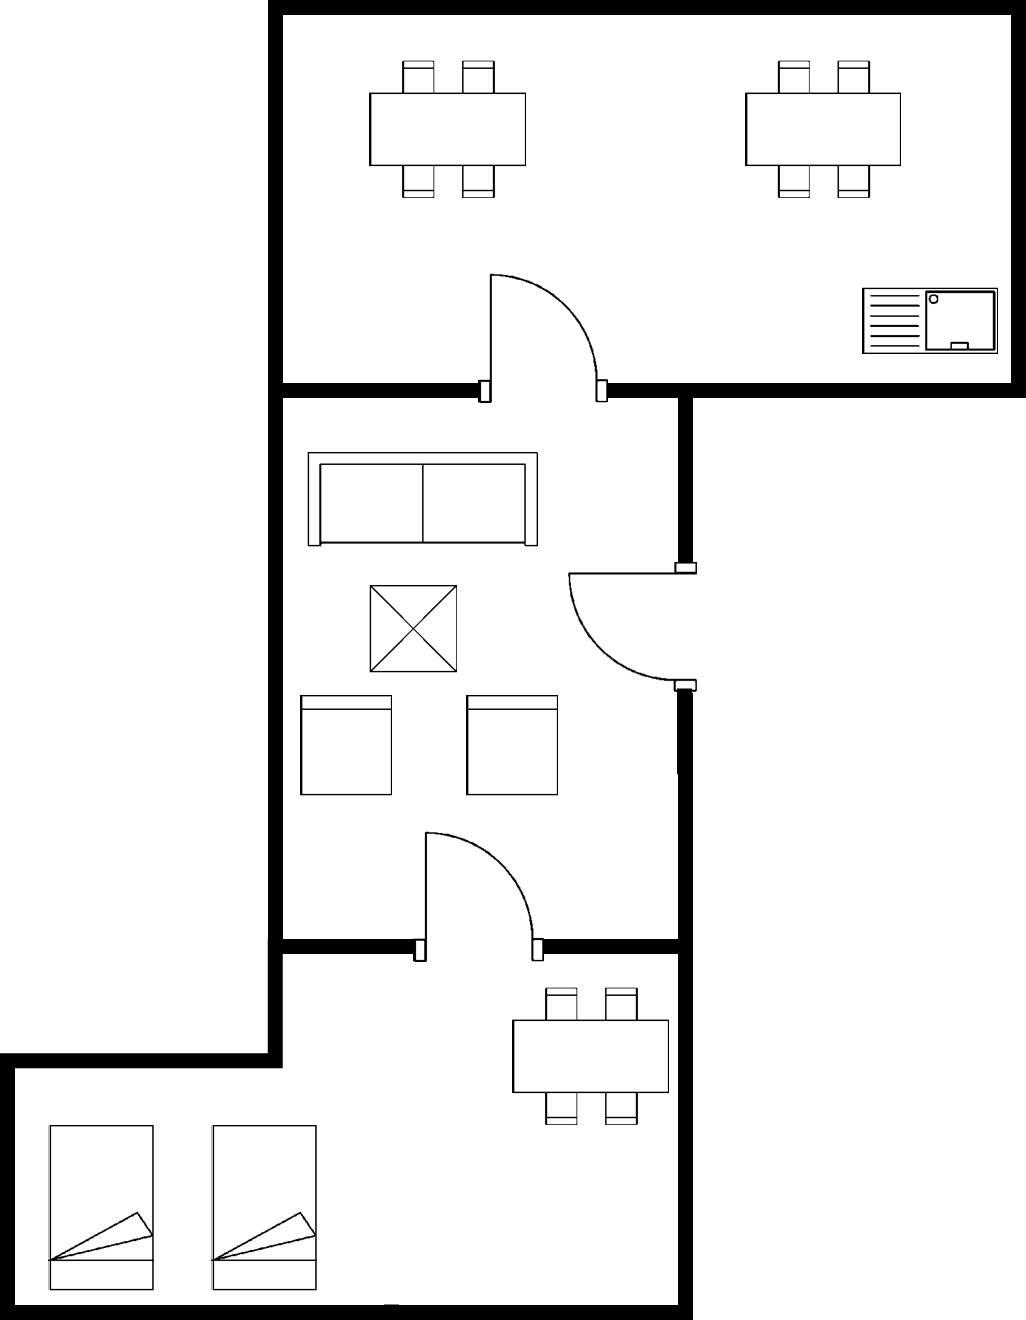bed: (205, 1116, 328, 1296), (42, 1117, 160, 1296)
dining_table: (733, 48, 915, 205), (502, 978, 673, 1138), (361, 52, 532, 206), (361, 577, 466, 682)
sink: (853, 277, 1002, 361)
sofa: (298, 442, 546, 556)
